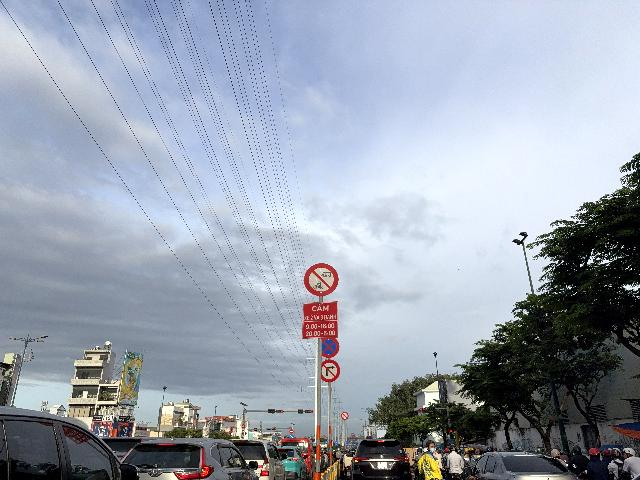cam-dung-va-do-xe: (321, 337, 339, 358)
cam-re-phai: (322, 359, 340, 382)
cam-xe-2-banh-3-banh: (304, 263, 339, 295)
